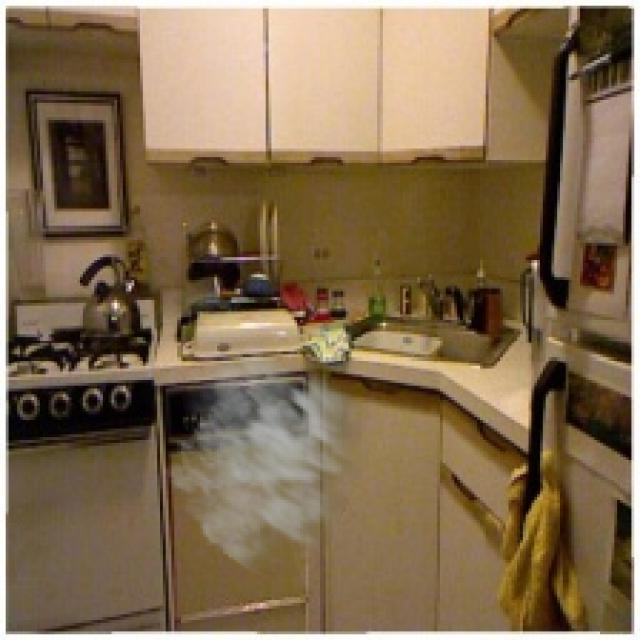Smoke: (160, 337, 389, 580)
